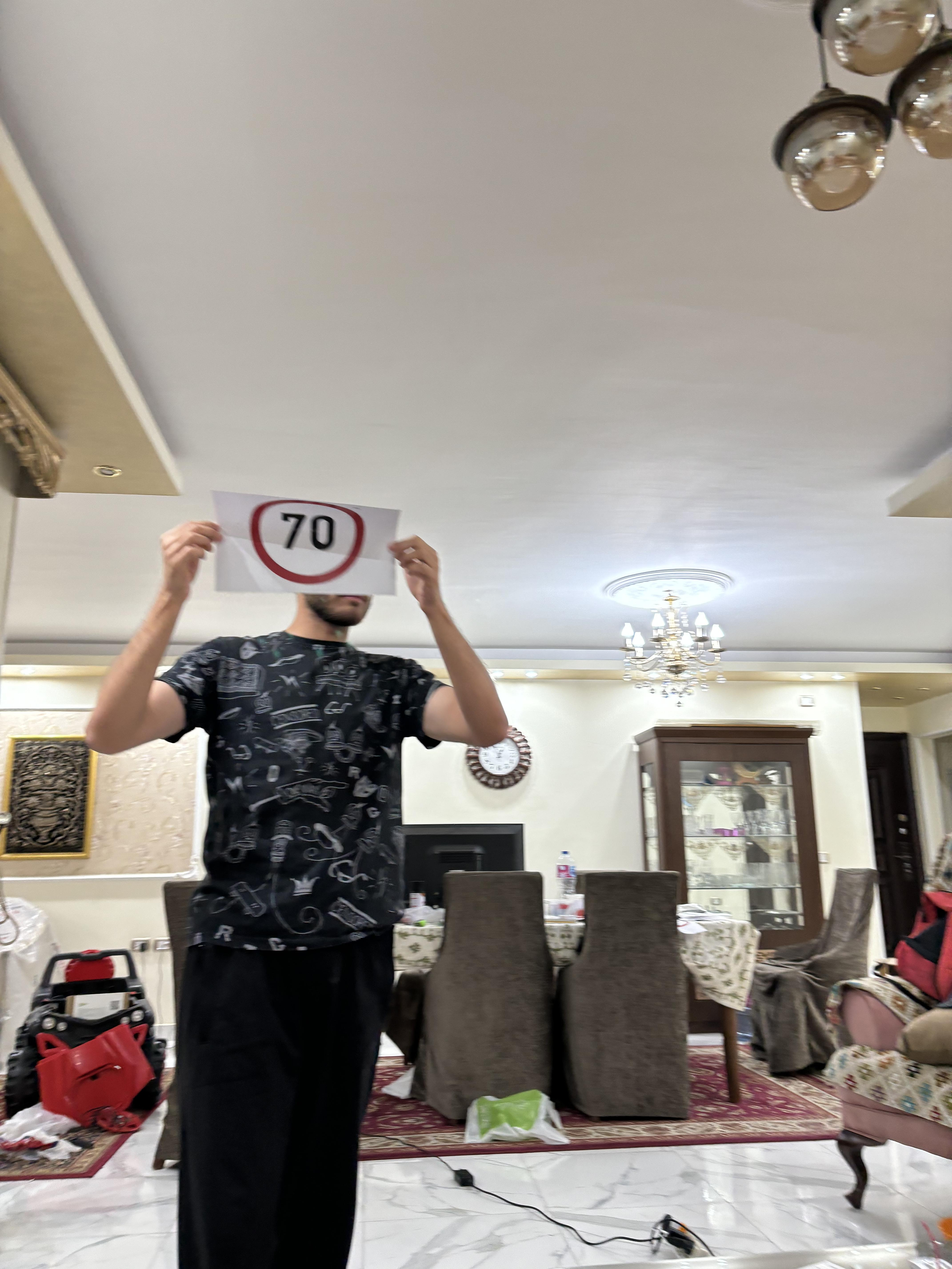70-Speed: (246, 495, 368, 585)
